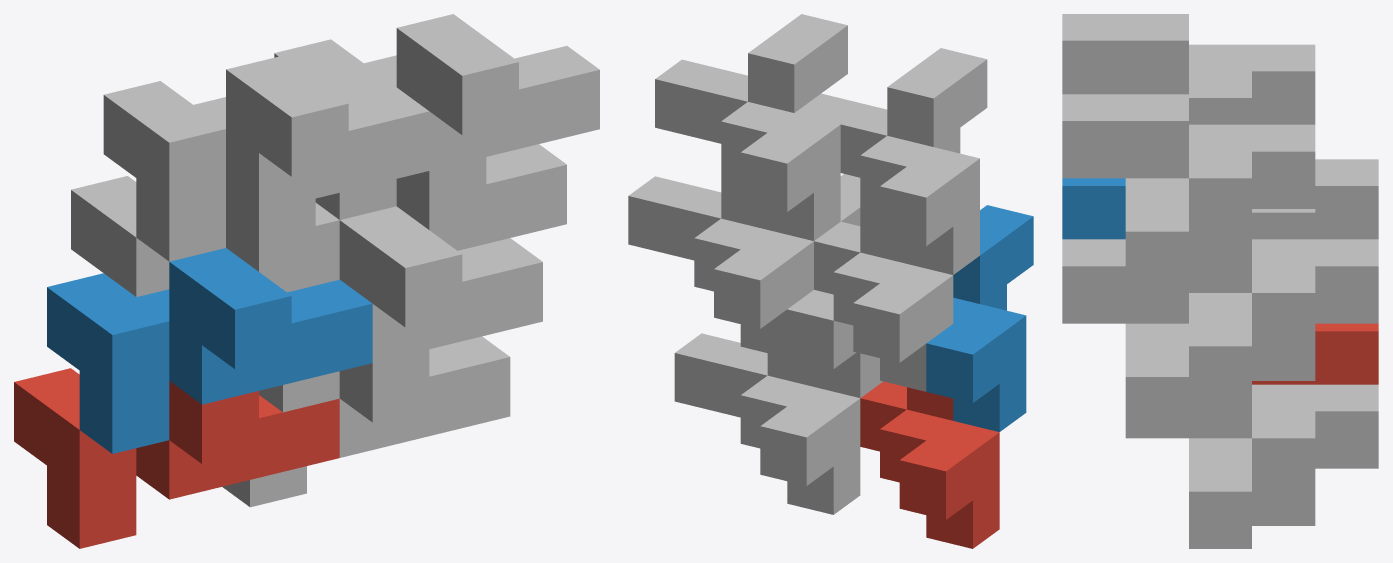
File: tiling.obj
3 renders of one model, left to right at view 1: azimuth 30°, elevation 25°; view 2: azimuth 150°, elevation 25°; view 3: azimuth 270°, elevation 25°, orthographic. The views are drawn at different scales.
Visible parts, largest first — view 1: copy_1_domain_2, copy_1_domain_4, copy_1_domain_1, copy_1_domain_8, copy_1_domain_6, copy_1_domain_5, copy_1_domain_3, copy_1_domain_7; view 2: copy_1_domain_8, copy_1_domain_4, copy_1_domain_5, copy_1_domain_7, copy_1_domain_1, copy_1_domain_2, copy_1_domain_3, copy_1_domain_6; view 3: copy_1_domain_8, copy_1_domain_7, copy_1_domain_5, copy_1_domain_4, copy_1_domain_6, copy_1_domain_3, copy_1_domain_1, copy_1_domain_2.
Part boxes in pixels (x1,y1,x2,y2): copy_1_domain_2: (47,248,372,453); copy_1_domain_4: (103,55,429,261); copy_1_domain_1: (14,368,339,548); copy_1_domain_8: (274,14,599,219); copy_1_domain_6: (259,206,542,412); copy_1_domain_5: (222,336,510,507); copy_1_domain_3: (71,176,339,296); copy_1_domain_7: (396,144,566,250); copy_1_domain_8: (655,14,847,240); copy_1_domain_4: (795,48,987,274); copy_1_domain_5: (674,333,860,514); copy_1_domain_7: (628,170,813,357); copy_1_domain_1: (860,381,999,548); copy_1_domain_2: (926,205,1033,431); copy_1_domain_3: (814,204,953,391); copy_1_domain_6: (787,174,882,398); copy_1_domain_8: (1062,94,1315,288); copy_1_domain_7: (1125,235,1378,403); copy_1_domain_5: (1125,384,1378,548); copy_1_domain_4: (1062,14,1315,124); copy_1_domain_6: (1062,239,1188,434); copy_1_domain_3: (1252,159,1378,239); copy_1_domain_1: (1252,323,1378,384); copy_1_domain_2: (1062,178,1125,239).
Bounding box in the file's own units: 8 × 8 × 5.
